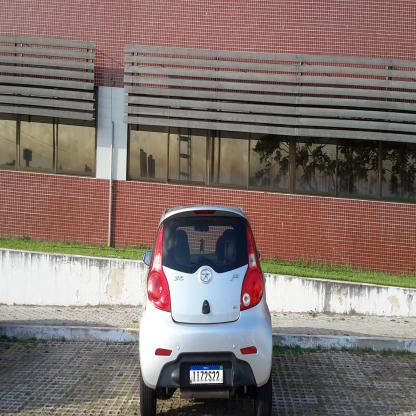PlacaM: (189, 364, 224, 385)
